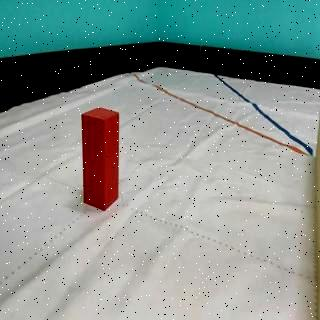redbox: (82, 106, 120, 210)
